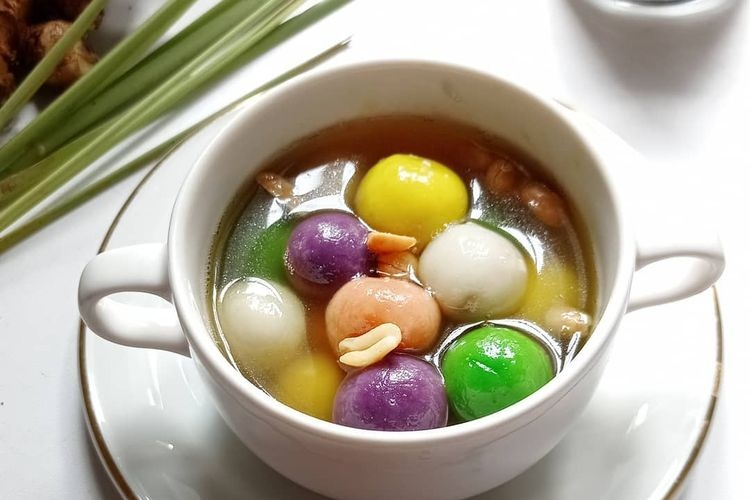ronde: (213, 121, 596, 431)
